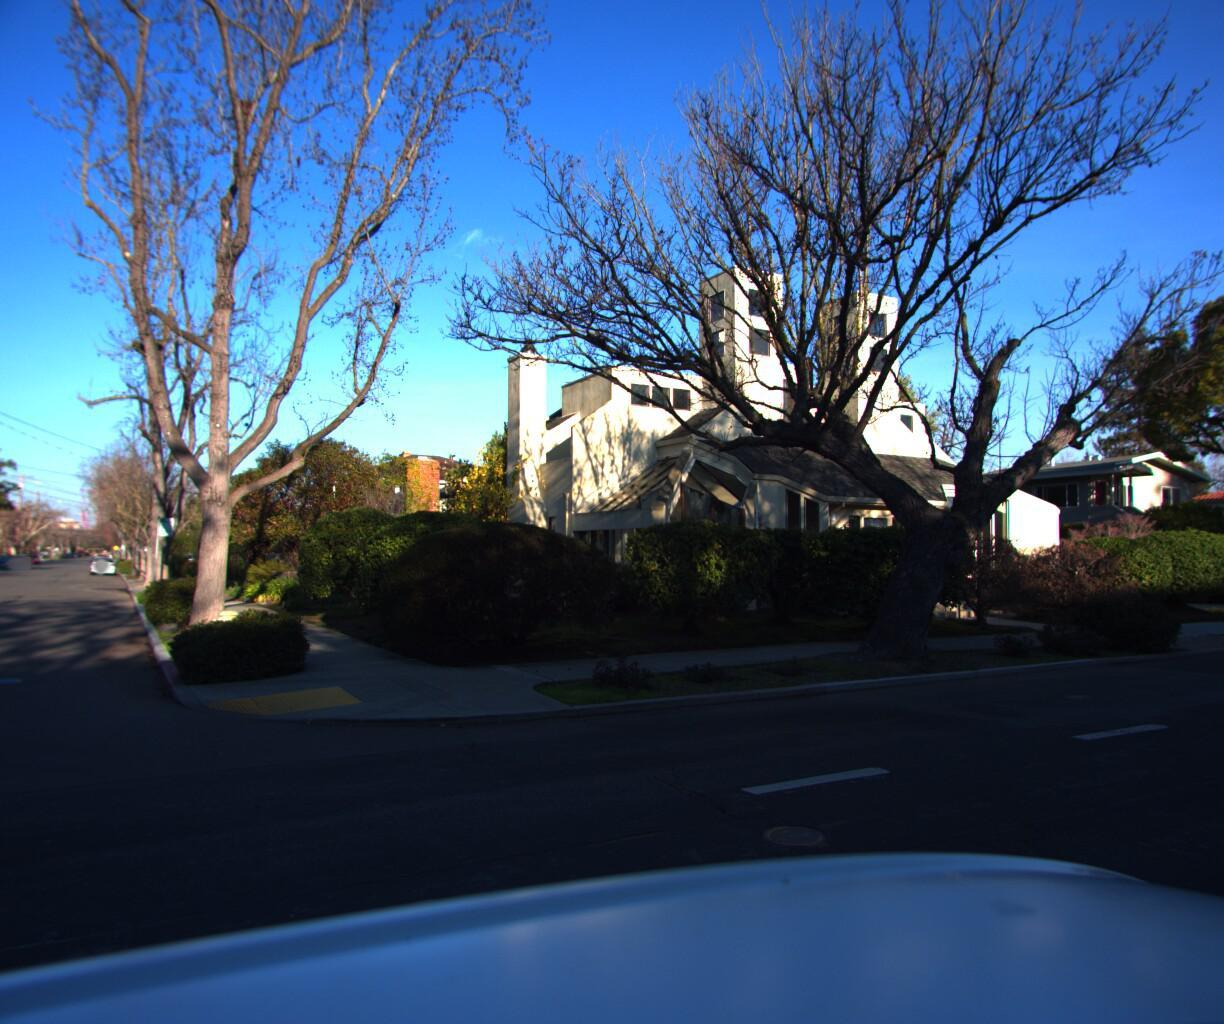car: (88, 550, 117, 574)
